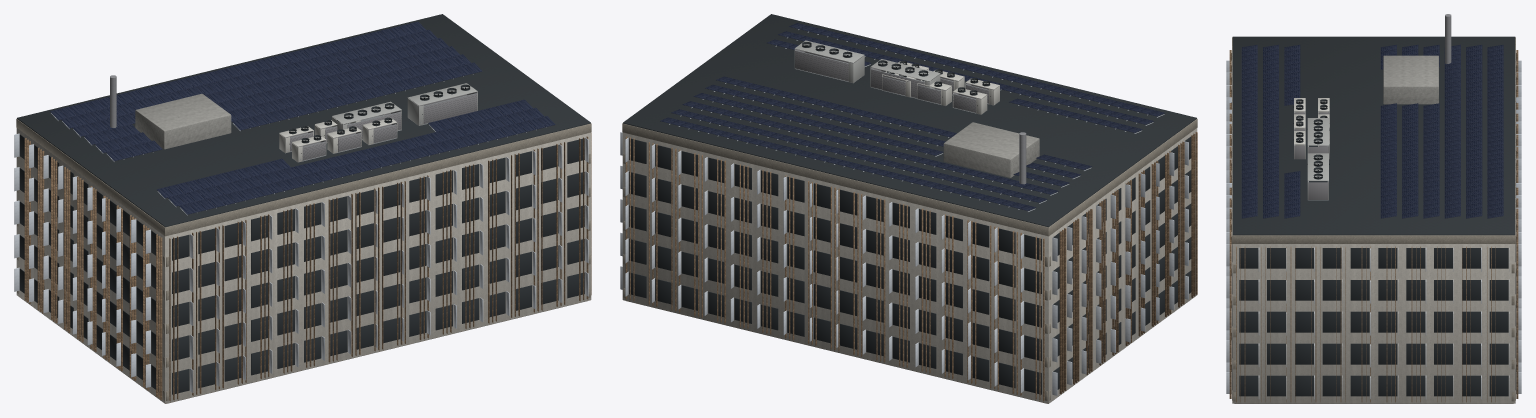
File: wlc_office.glb
3 renders of one model, left to right at view 1: azimuth 30°, elevation 25°; view 2: azimuth 150°, elevation 25°; view 3: azimuth 270°, elevation 25°, orthographic. The views are drawn at different scales.
Parts seen in each view (by area): view 1: Var2_Facade, Var4_Facade, Var2_Roof, Var3_Facade, Var4_Roof, Var1_Facade, Slabs_Core, Var1_Roof; view 2: Var2_Facade, Var3_Facade, Var4_Facade, Var2_Roof, Var1_Facade, Var1_Roof, Slabs_Core, Var4_Roof; view 3: Var2_Facade, Var3_Facade, Var2_Roof, Var4_Facade, Var4_Roof, Var1_Facade, Slabs_Core, Var1_Roof.
Part boxes in pixels (x1,y1,x2,y2): Var2_Facade: (14,128,591,403); Var4_Facade: (24,133,591,401); Var2_Roof: (50,21,535,215); Var3_Facade: (17,14,590,227); Var4_Roof: (156,99,555,207); Var1_Facade: (16,118,591,400); Slabs_Core: (135,93,587,403); Var1_Roof: (110,75,477,139); Var2_Facade: (620,128,1197,403); Var3_Facade: (623,14,1196,227); Var4_Facade: (625,132,1197,401); Var2_Roof: (660,27,1164,211); Var1_Facade: (622,118,1197,400); Var1_Roof: (794,40,1026,184); Slabs_Core: (626,122,1047,403); Var4_Roof: (766,23,1153,133); Var2_Facade: (1226,38,1521,403); Var3_Facade: (1232,36,1515,235); Var2_Roof: (1241,44,1503,218); Var4_Facade: (1229,50,1518,402); Var4_Roof: (1241,44,1300,218); Var1_Facade: (1232,37,1515,401); Slabs_Core: (1234,55,1513,403); Var1_Roof: (1307,14,1451,200).
Size of what is drawn, in the model's own units: 51.84 by 26.15 by 31.84.
Materials: 24 (19 with a texture image).
